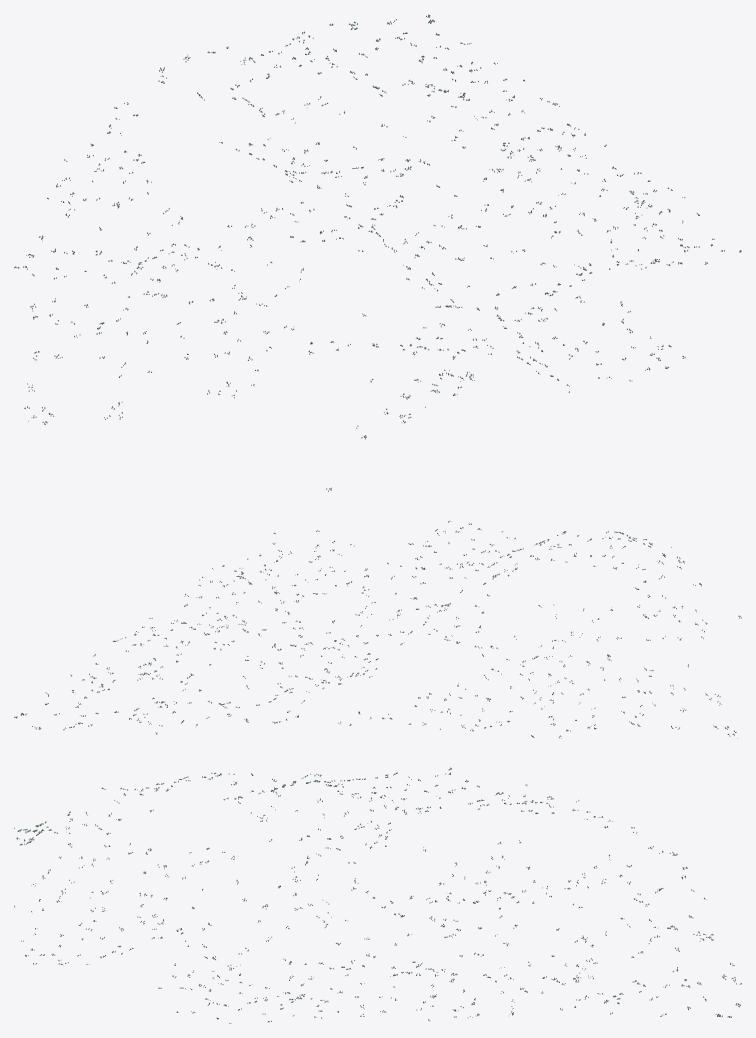
Rendered from SM_AsirMountains_Far_Forest_3.fbx.
The picture shows the model from 3 angles, top to bottom: view 1: azimuth 30°, elevation 25°; view 2: azimuth 150°, elevation 25°; view 3: azimuth 270°, elevation 25°; orthographic projection. The views are drawn at different scales.
Parts seen in each view (by area): view 1: SM_AsirMountains_Far_Forest_3; view 2: SM_AsirMountains_Far_Forest_3; view 3: SM_AsirMountains_Far_Forest_3.
Part boxes in pixels (bbox=[...]): SM_AsirMountains_Far_Forest_3: bbox=[14, 14, 741, 491]; SM_AsirMountains_Far_Forest_3: bbox=[14, 520, 741, 738]; SM_AsirMountains_Far_Forest_3: bbox=[14, 767, 741, 1023].
Bounding box in the file's own units: 472199 × 68873 × 520373.
